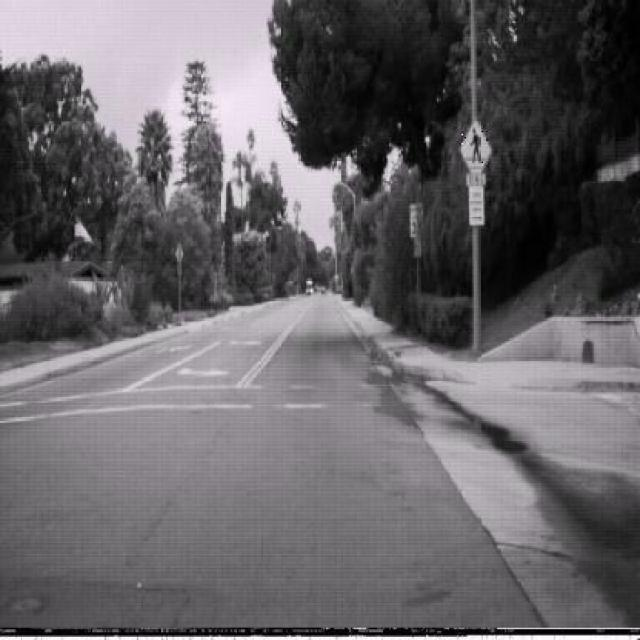pedestrianCrossing: (458, 116, 492, 186)
